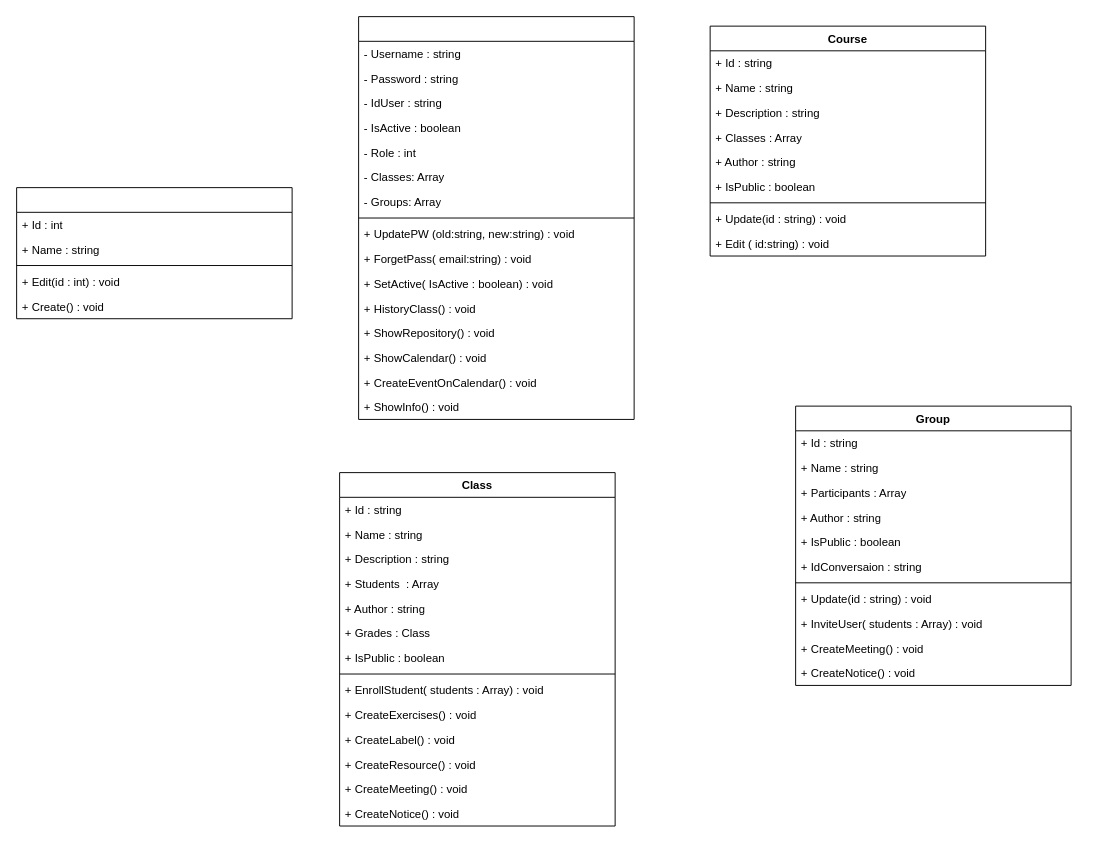
The diagram is 1095 pixels wide and 846 high, and some of its shapes have lost their labels. Here are the shapes that lost their labels. From the top down, the box of each, then its label:
(358, 16, 634, 419): Account
(16, 187, 292, 319): Role
